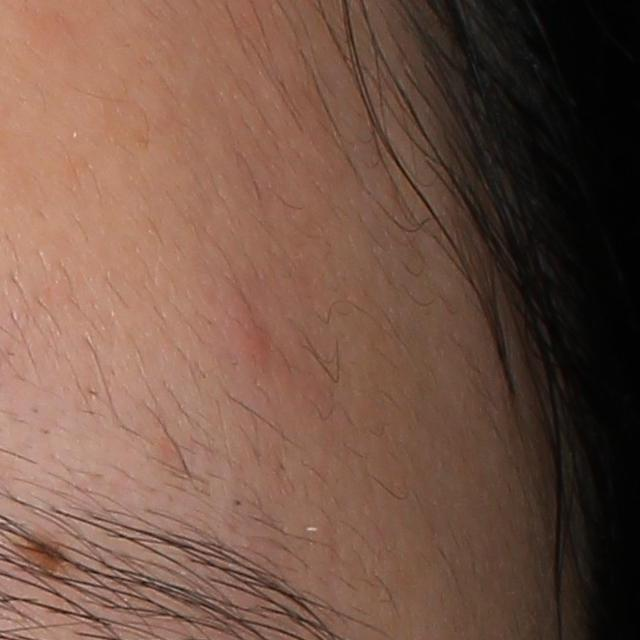nevus: (30, 533, 61, 570)
papule: (236, 292, 272, 366)
